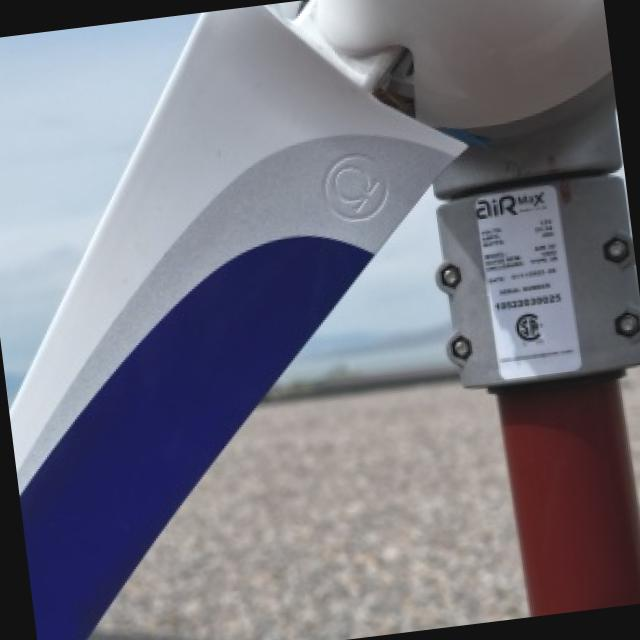healthy: (99, 402, 521, 640)
